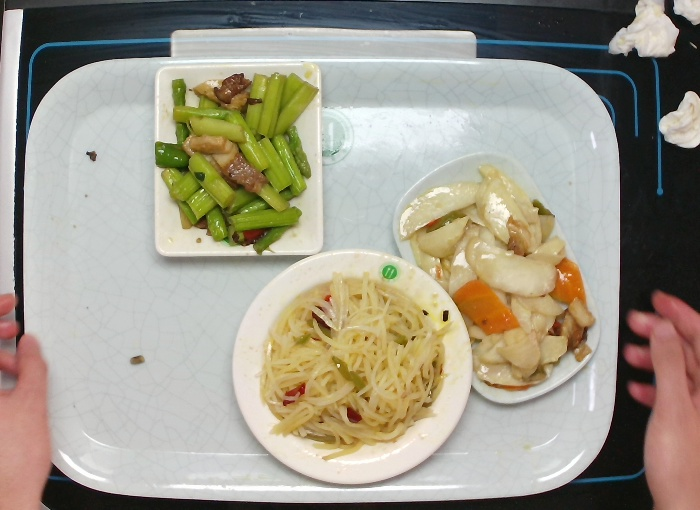WCQzf-Bai_Se_Si_Fang_Die: (147, 54, 327, 270)
WCQzf-Kuan_Bian_Yuan_Die: (232, 247, 477, 489)
WCQzf-Tuo_Yuan_Pan: (390, 149, 605, 413)
